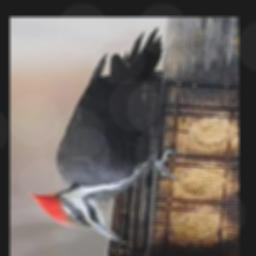Woodpecker: (29, 28, 176, 245)
